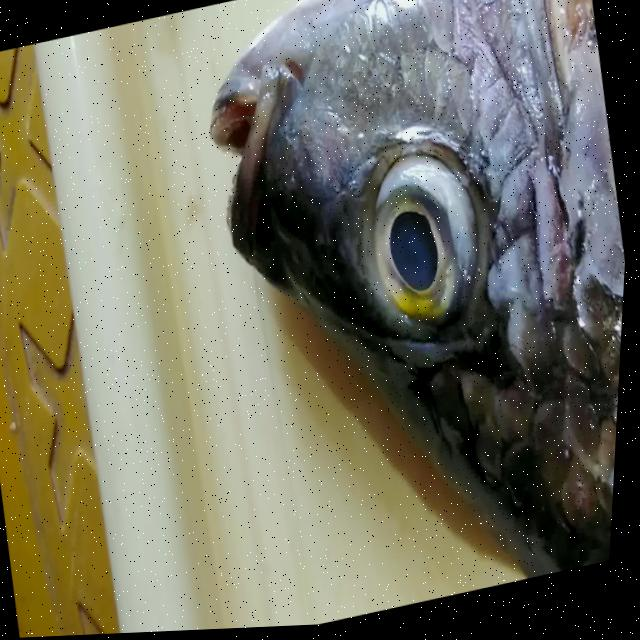Fresh: (334, 125, 522, 348)
